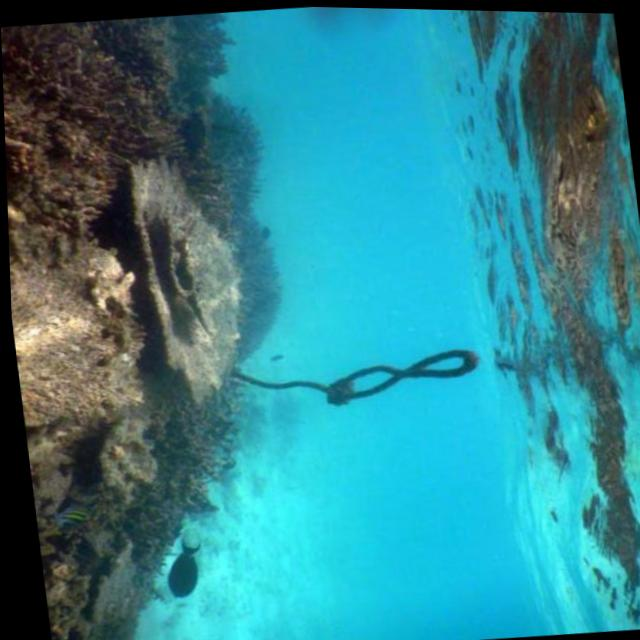Dead Coral: (110, 145, 263, 407), (6, 192, 144, 422), (0, 12, 185, 161), (21, 419, 159, 531)
